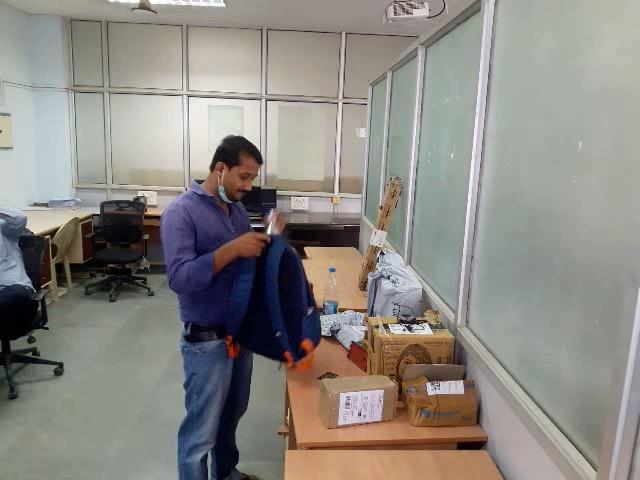shoplifting: (147, 196, 384, 388)
